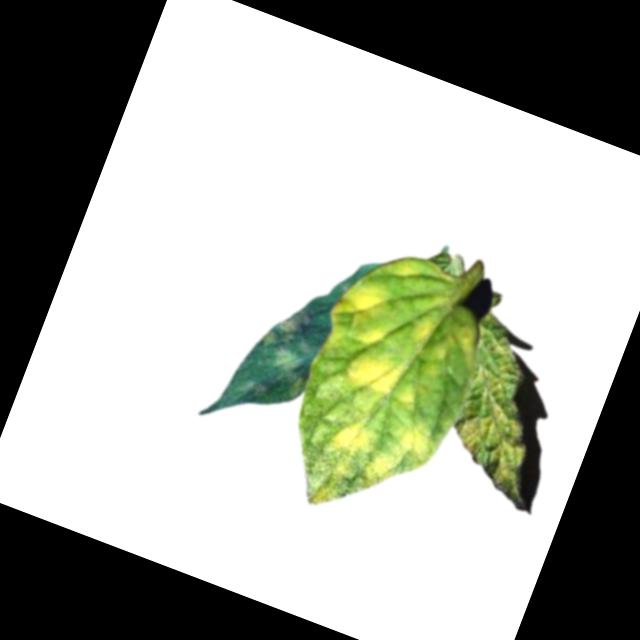Leaf_Mold: (424, 308, 576, 496), (305, 415, 410, 530), (247, 297, 329, 398), (340, 341, 437, 417), (322, 275, 408, 353), (405, 310, 465, 366), (395, 413, 444, 466)
